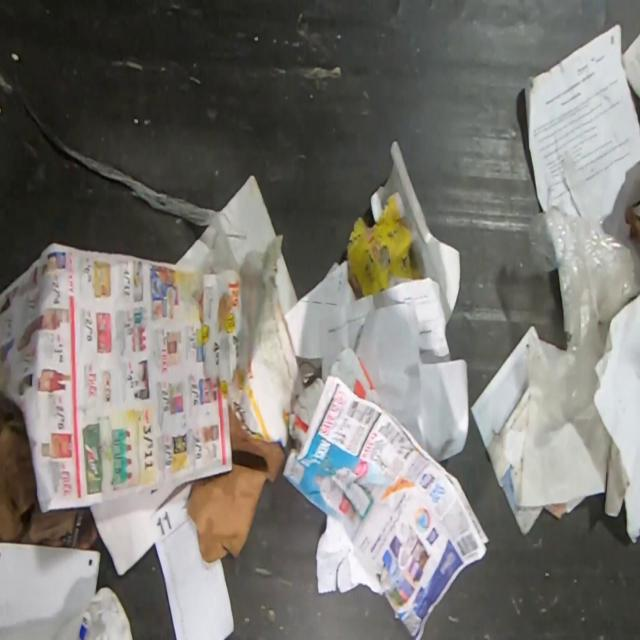cardboard: (187, 403, 286, 563), (0, 391, 98, 548), (347, 190, 427, 300)
soft_plastic: (57, 138, 285, 387), (502, 149, 640, 515)
